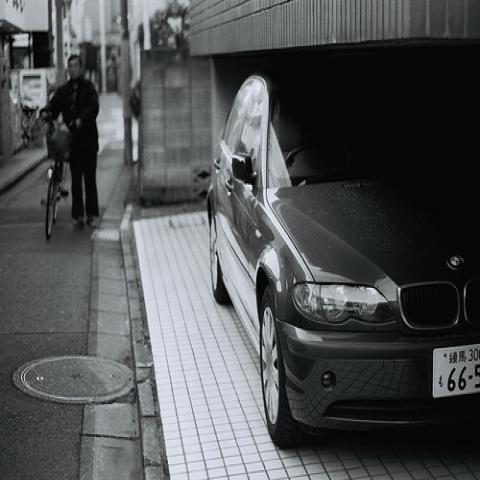car: (206, 69, 479, 451)
